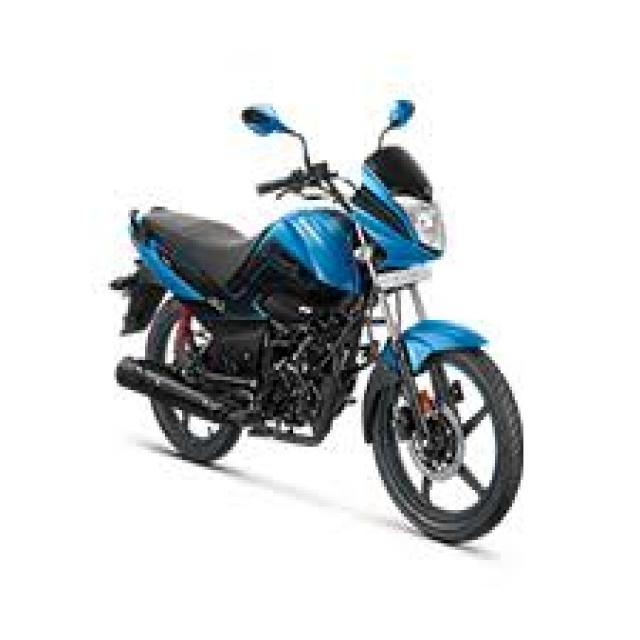Bike: (109, 100, 525, 545)
